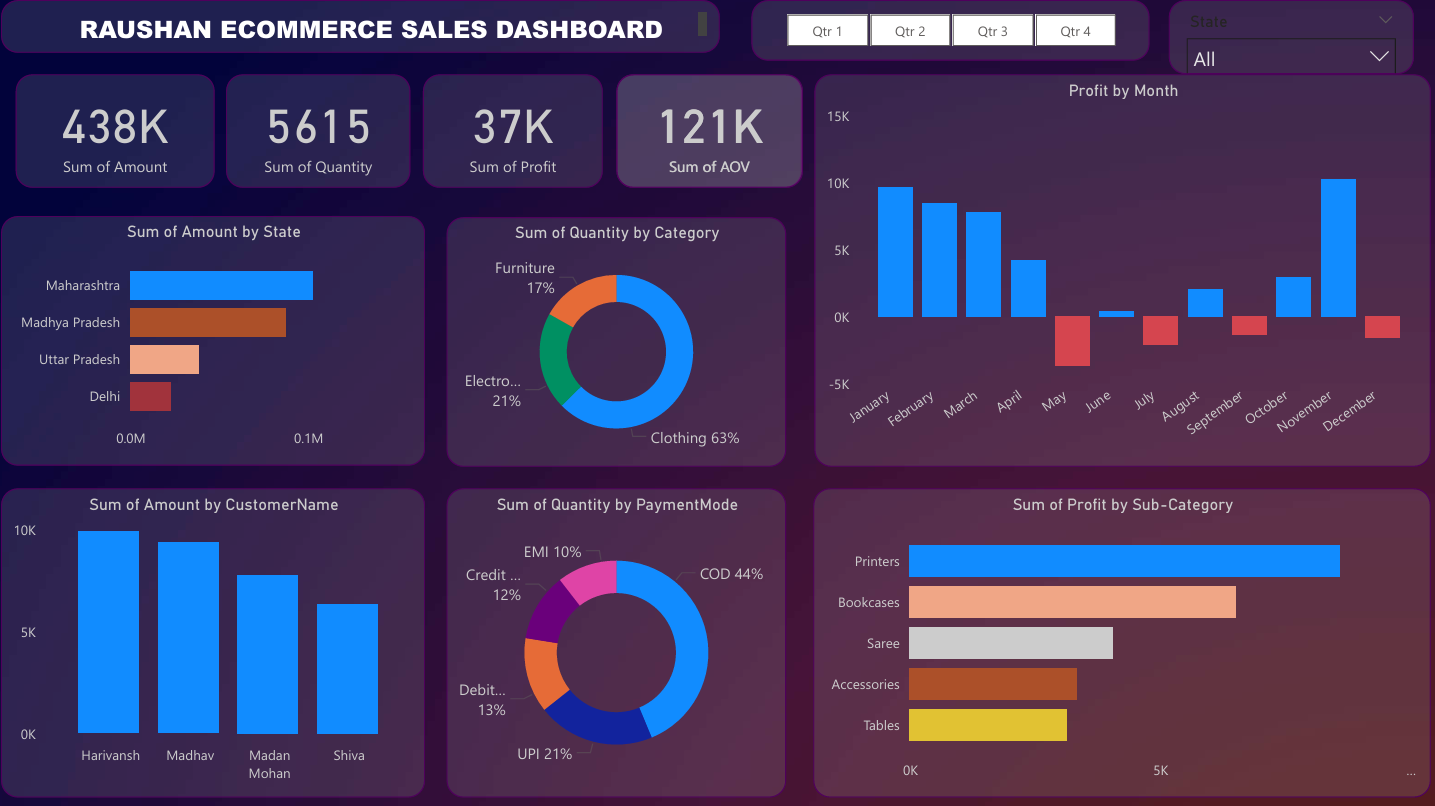

This screenshot's page, from the dashboard's own definition file:
{"tool":"powerbi","page":{"name":"Page 1","canvas":[1280,720],"ordinal":0},"visuals":[{"type":"textbox","box":[0,0,639.5,46.7],"z":0},{"type":"columnChart","title":" Profit by Month","fields":{"Y":["Details.Profit"],"Category":["Orders.Order Date.Variation.Date Hierarchy.Month"]},"box":[722.7,66.3,548.5,348.5],"z":1000},{"type":"clusteredBarChart","fields":{"Category":["Orders.State"],"Y":["Details.Amount"]},"box":[0,192.3,376.6,221.9],"z":2000},{"type":"donutChart","fields":{"Category":["Details.Category"],"Y":["Details.Quantity"]},"box":[396.7,192.3,301.2,221.9],"z":3000},{"type":"donutChart","fields":{"Y":["Details.Quantity"],"Category":["Details.PaymentMode"]},"box":[396.3,434.4,301.8,274.8],"z":4000},{"type":"card","fields":{"Values":["Details.Amount"]},"box":[13.5,66.3,176.7,100.6],"z":5000},{"type":"card","fields":{"Values":["Details.Quantity"]},"box":[200,66.3,164.4,100.6],"z":6000},{"type":"card","fields":{"Values":["Details.Profit"]},"box":[375.5,66.3,159.5,100.6],"z":7000},{"type":"card","fields":{"Values":["Details.AOV"]},"box":[547.2,66.3,164.4,100.6],"z":8000},{"type":"card","fields":{"Values":["Details.AOV"]},"box":[547.2,66.3,165.6,100.6],"z":9000},{"type":"columnChart","fields":{"Category":["Orders.CustomerName"],"Y":["Details.Amount"]},"box":[0,434.4,376.6,274.3],"z":10000},{"type":"barChart","fields":{"Category":["Details.Sub-Category"],"Y":["Details.Profit"]},"box":[722,434,549,275],"z":11000},{"type":"slicer","fields":{"Values":["Orders.Order Date.Variation.Date Hierarchy.Quarter"]},"box":[667,0,353.7,53.8],"z":12000},{"type":"slicer","fields":{"Values":["Orders.State"]},"box":[1038,0,218.4,66.3],"z":13000}]}

Visuals, with their boxes in screenshot pixels (x1, y1, x2, y2), scaled from the page's 1280x720 canvas onto the 1435x806 screenshot:
textbox: (0, 0, 717, 52)
" Profit by Month" columnChart: (810, 74, 1425, 464)
clusteredBarChart - Orders.State x Details.Amount: (0, 215, 422, 464)
donutChart - Details.Category x Details.Quantity: (445, 215, 782, 464)
donutChart - Details.Quantity x Details.PaymentMode: (444, 486, 783, 794)
card - Details.Amount: (15, 74, 213, 187)
card - Details.Quantity: (224, 74, 409, 187)
card - Details.Profit: (421, 74, 600, 187)
card - Details.AOV: (613, 74, 798, 187)
card - Details.AOV: (613, 74, 799, 187)
columnChart - Orders.CustomerName x Details.Amount: (0, 486, 422, 793)
barChart - Details.Sub-Category x Details.Profit: (809, 486, 1425, 794)
slicer - Orders.Order Date.Variation.Date Hierarchy.Quarter: (748, 0, 1144, 60)
slicer - Orders.State: (1164, 0, 1409, 74)
